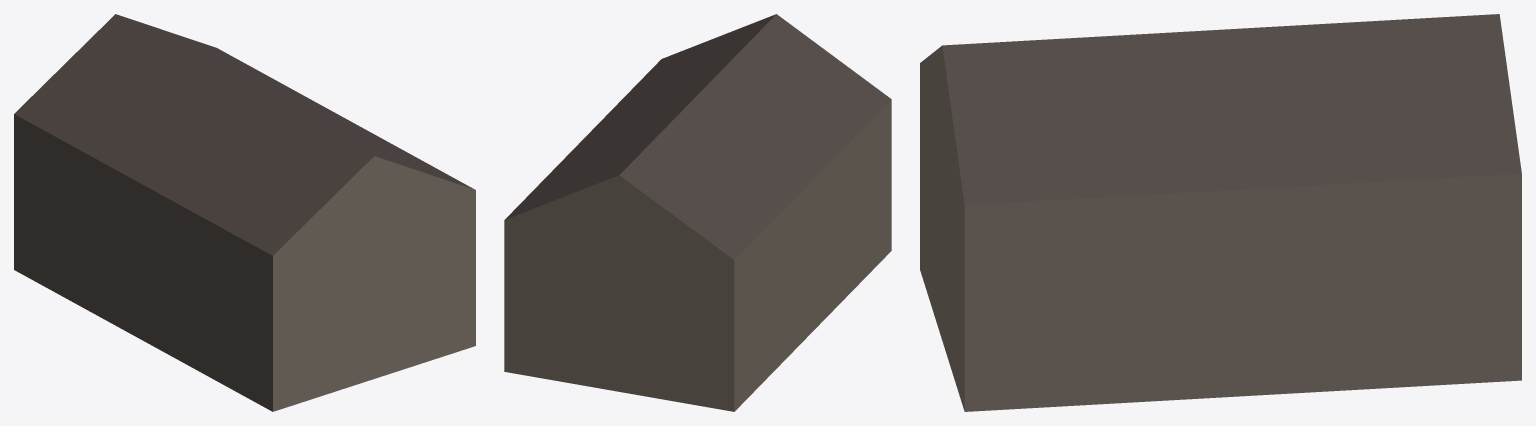
The picture shows the model from 3 angles, left to right: view 1: azimuth 30°, elevation 25°; view 2: azimuth 150°, elevation 25°; view 3: azimuth 270°, elevation 25°; orthographic projection. The views are drawn at different scales.
Visible parts, largest first — view 1: HP-w859424189; view 2: HP-w859424189; view 3: HP-w859424189.
Boxes of the visible parts, x1,y1,x2,y2 form: HP-w859424189: [14, 14, 475, 411]; HP-w859424189: [504, 14, 891, 411]; HP-w859424189: [920, 14, 1521, 411].
Size of the model in its own units: 16.22 by 12.87 by 23.76.
